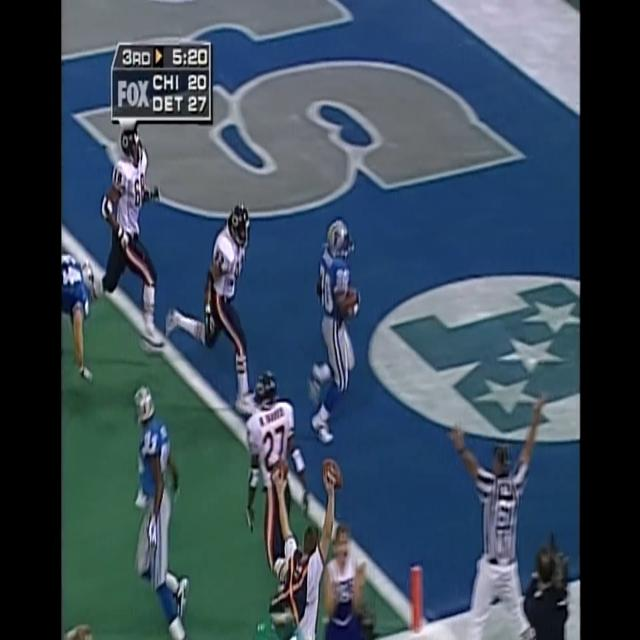football: (321, 459, 343, 491), (338, 288, 359, 316), (267, 460, 288, 484)
players: (165, 205, 259, 410), (92, 126, 165, 353), (132, 387, 192, 640), (244, 368, 303, 592), (306, 222, 361, 445), (62, 251, 97, 387)
